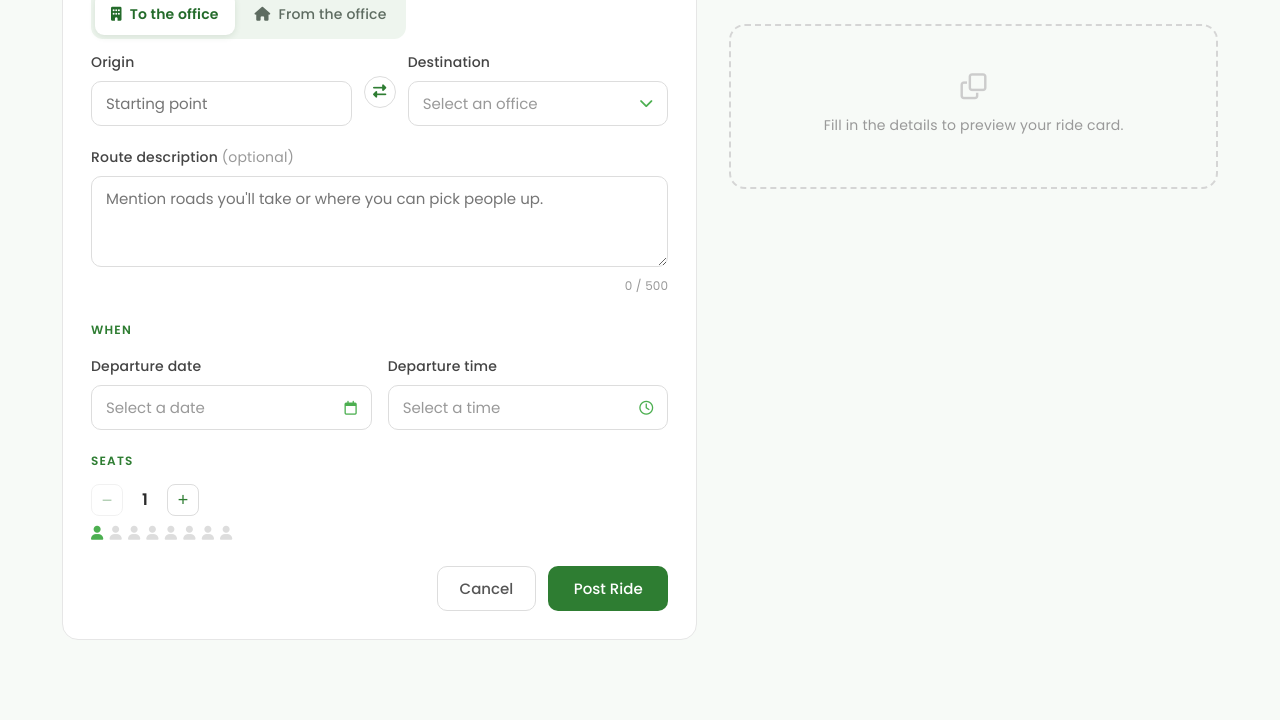
PostRideForm › shows validation errors when required fields are submitted empty
This screenshot has width=1280, height=720.
(page scrolled)
Click the button "Post Ride" at {"x": 608, "y": 589}, box [548,566,668,611]
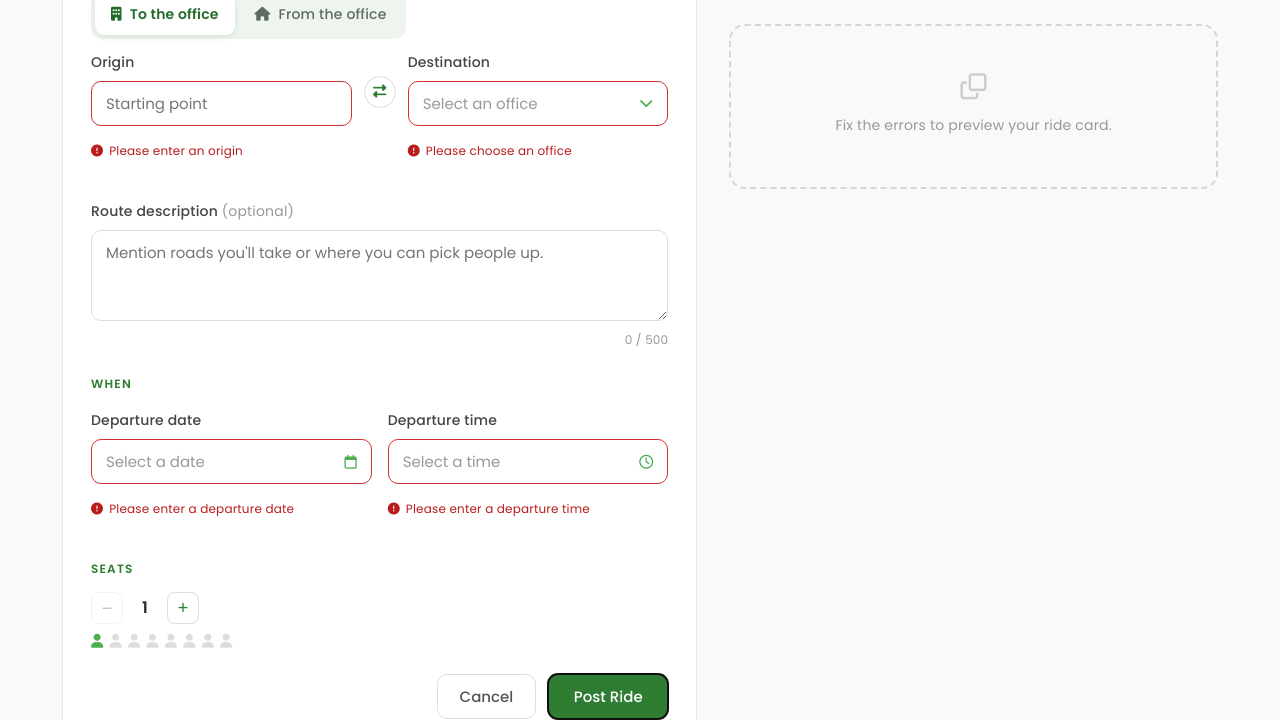
Check: the text "Please enter an origin" is shown, box [91,142,243,159]
Check: the text "Please choose an office" is shown, box [408,142,572,159]
Check: the text "Please enter a departure date" is shown, box [91,500,294,517]
